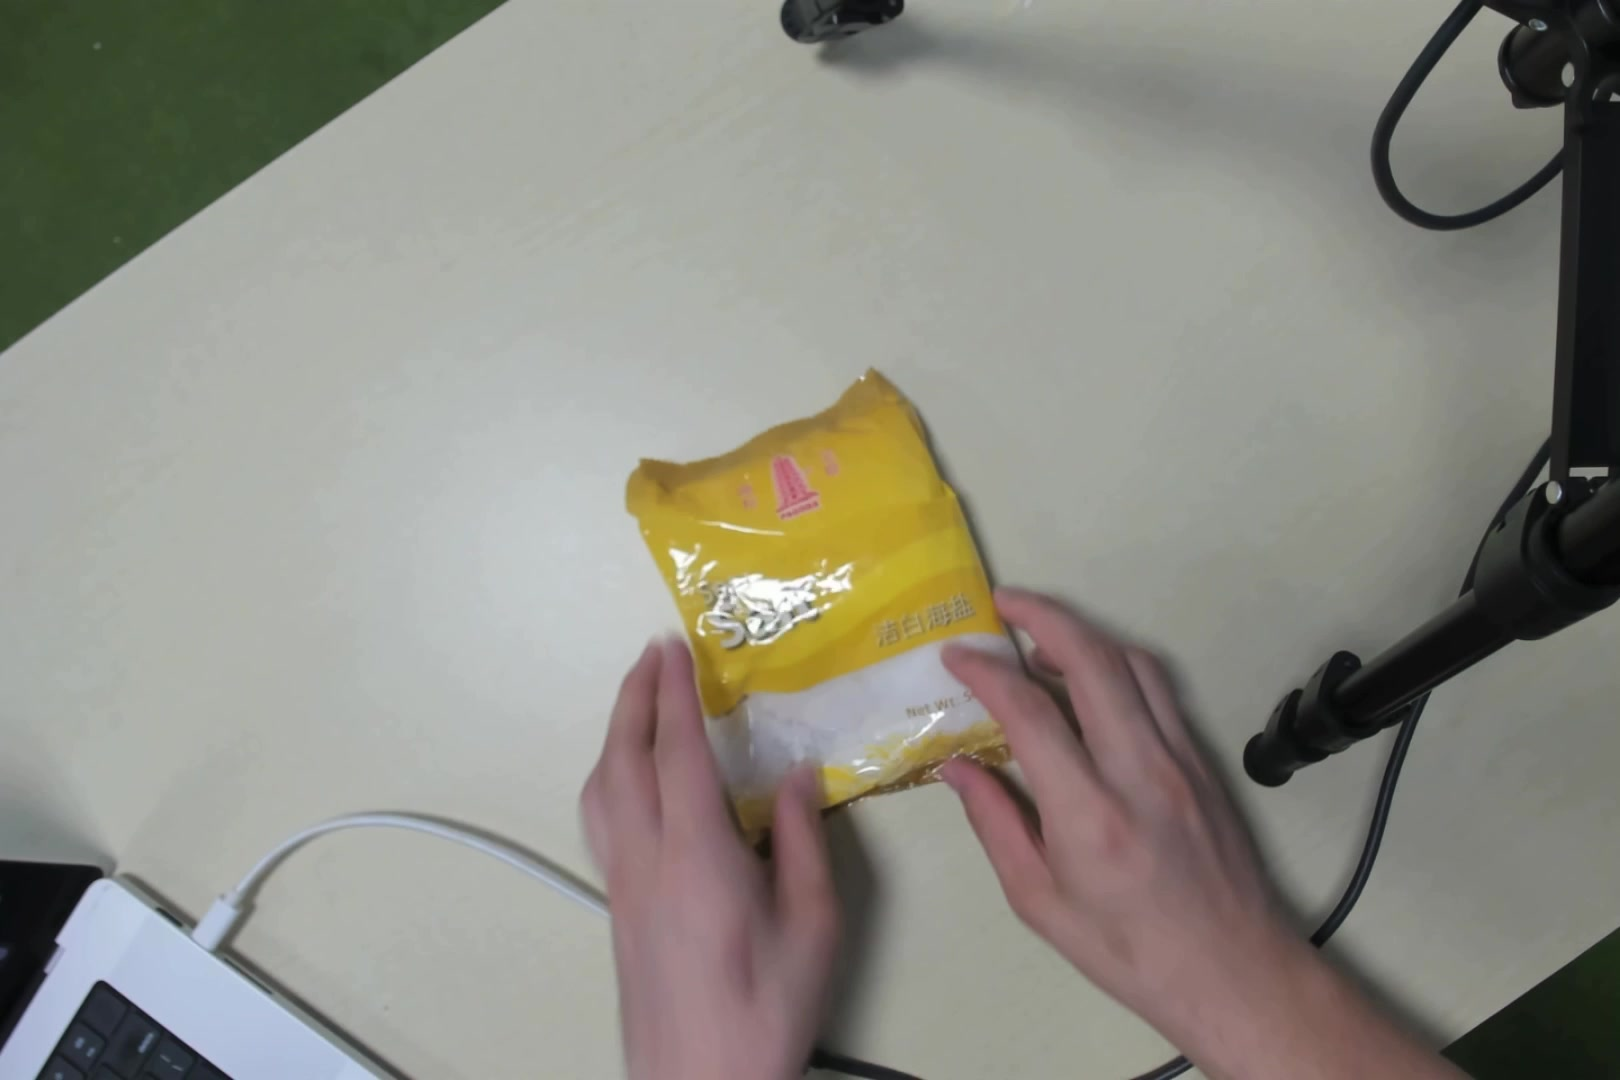Salt_500-599g_Halal_NonHealthy: (670, 425, 988, 767)
